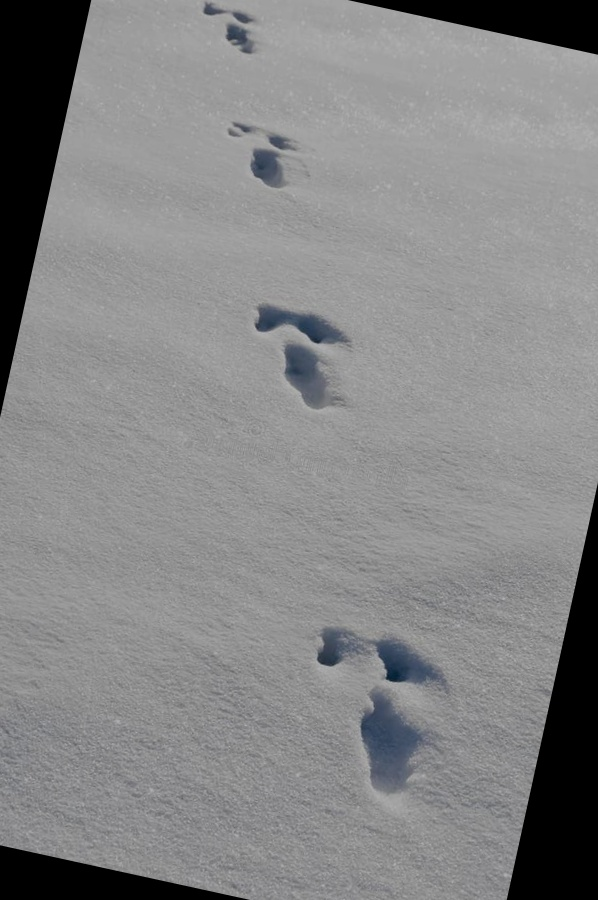rabbit: (252, 595, 494, 830), (208, 265, 388, 442)
